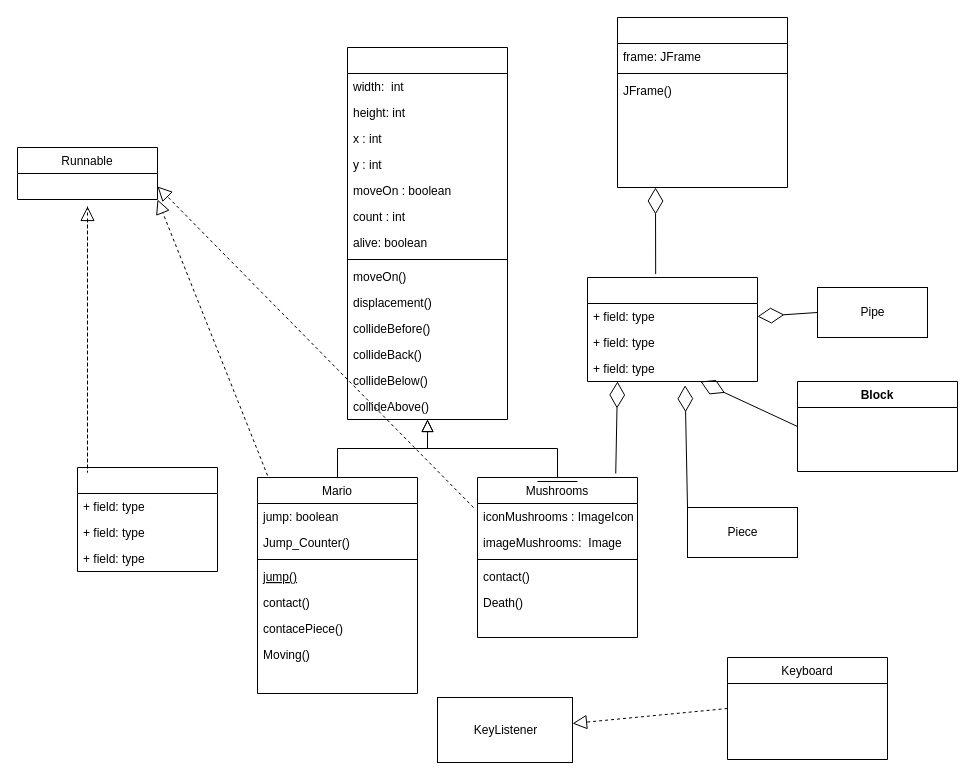
Some shapes in this 975 by 780 pixel diagram are drawn without their labels. The shapes that lost their labels are listed below. From the top down, each one's box as (x1, y1, x2, y2) in pixels, then its label:
(616, 16, 788, 188): Main
(346, 46, 508, 420): Character
(586, 276, 758, 382): Scene
(76, 466, 218, 572): Turtle
